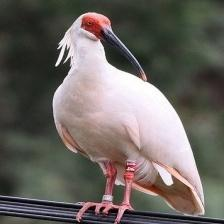bird: (53, 12, 202, 222)
